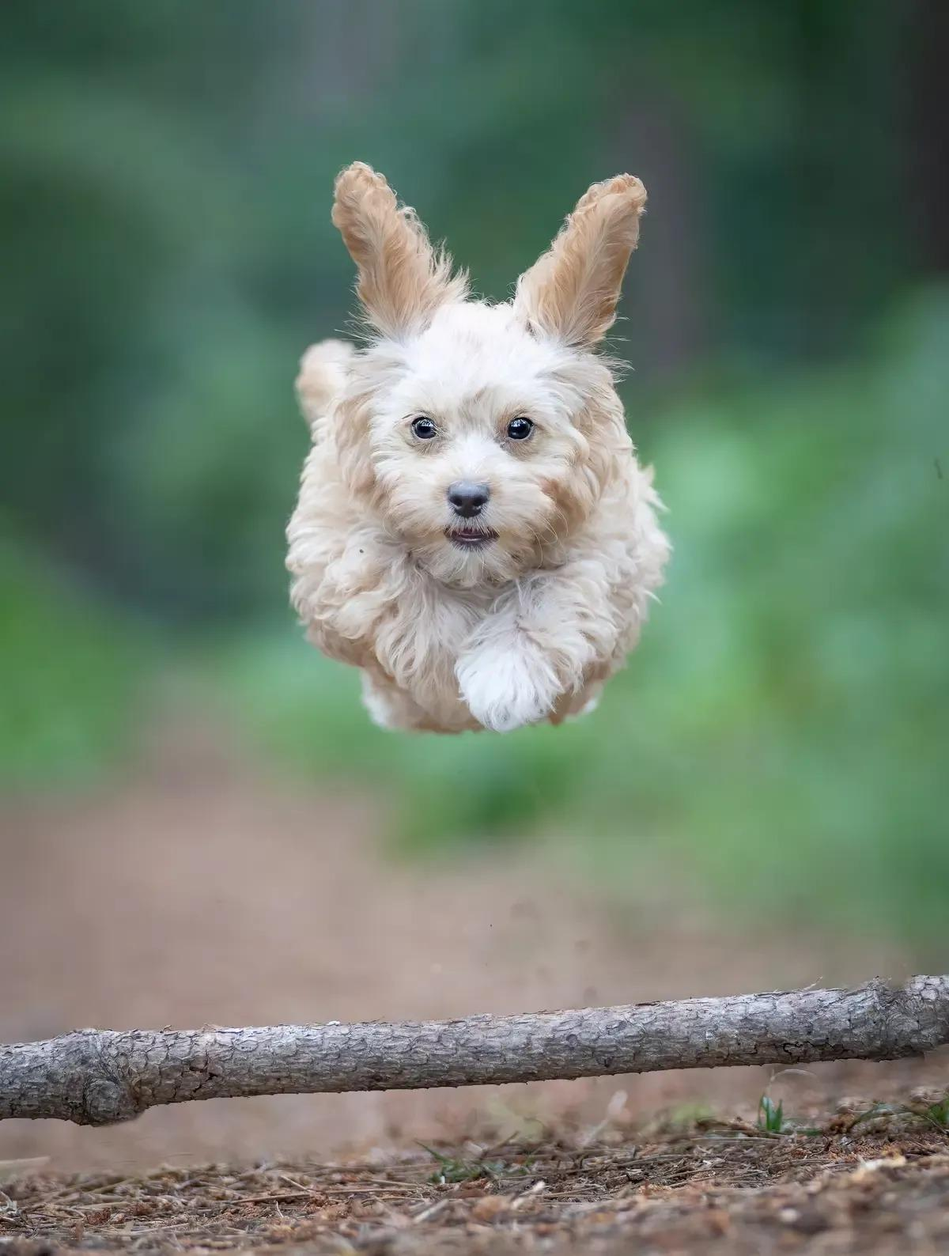puppy-dog: (284, 161, 671, 738)
